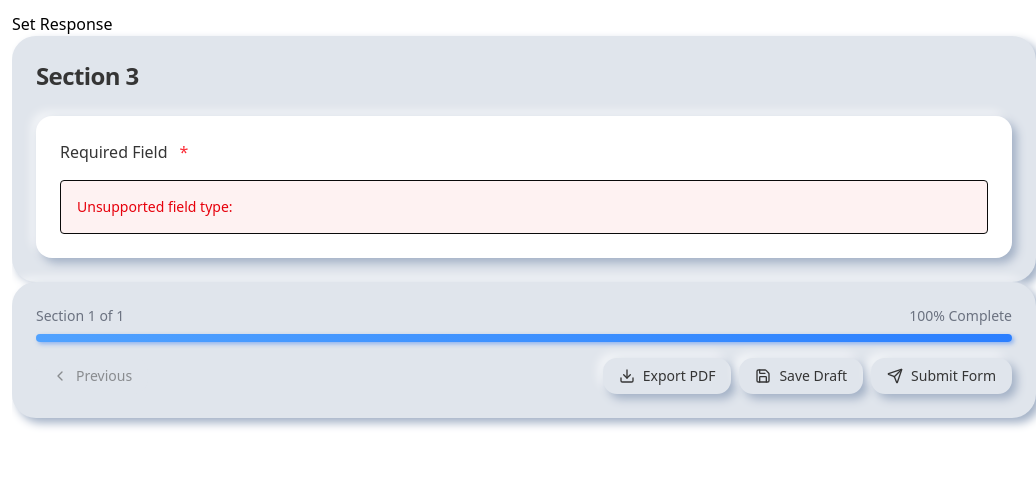
DynamicFormNavigation › blocks submission when required fields are empty and shows a toast
Click the button "Submit Form" at (942, 376), box [871, 358, 1012, 394]
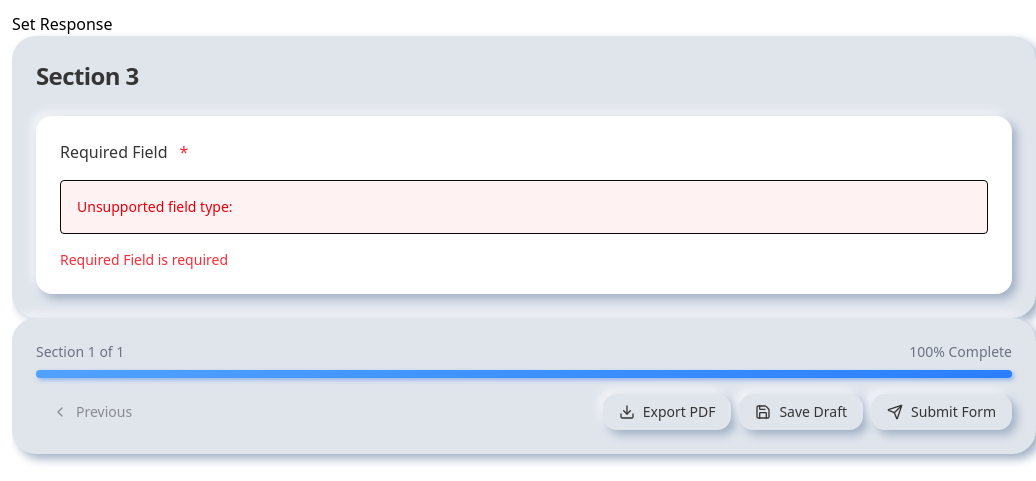
Check: the text "Required Field is required" is shown, box [60, 250, 228, 269]
